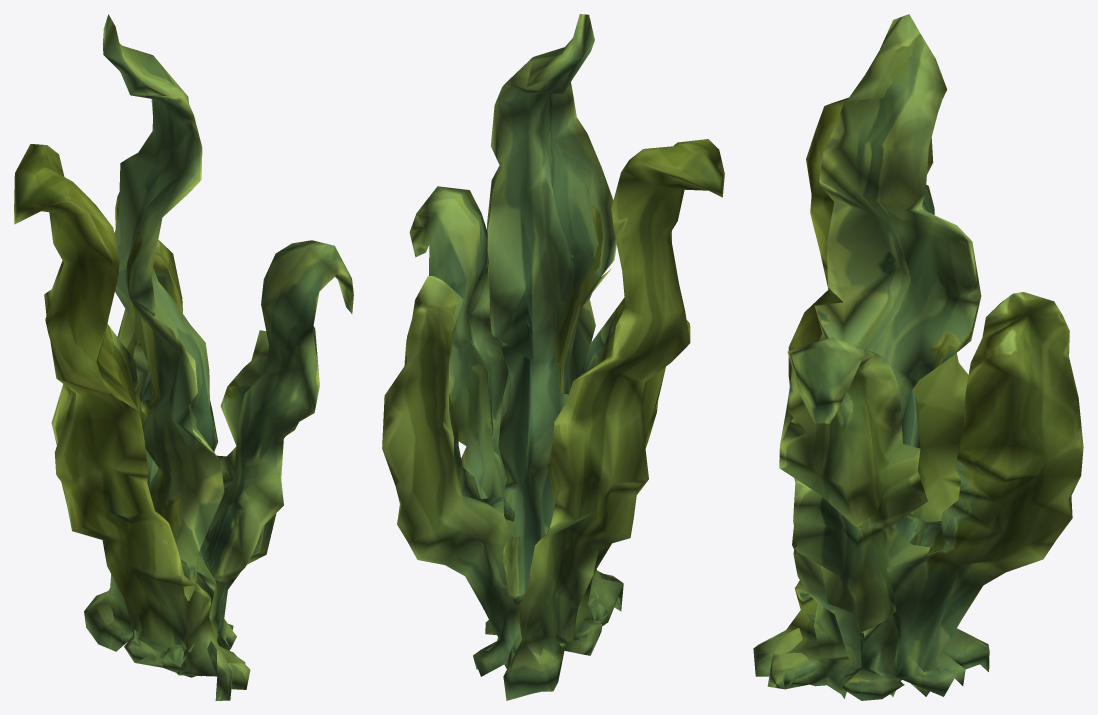
Rendered from alga_2.glb.
The picture shows the model from 3 angles, left to right: view 1: azimuth 30°, elevation 25°; view 2: azimuth 150°, elevation 25°; view 3: azimuth 270°, elevation 25°; orthographic projection. The views are drawn at different scales.
Parts seen in each view (by area): view 1: alga_2; view 2: alga_2; view 3: alga_2.
Boxes of the visible parts, x1,y1,x2,y2 form: alga_2: [14, 14, 353, 700]; alga_2: [382, 14, 724, 700]; alga_2: [753, 14, 1083, 700].
Size of the model in its own units: 1.1 by 2.2 by 1.
Materials: 1 (1 with a texture image).
